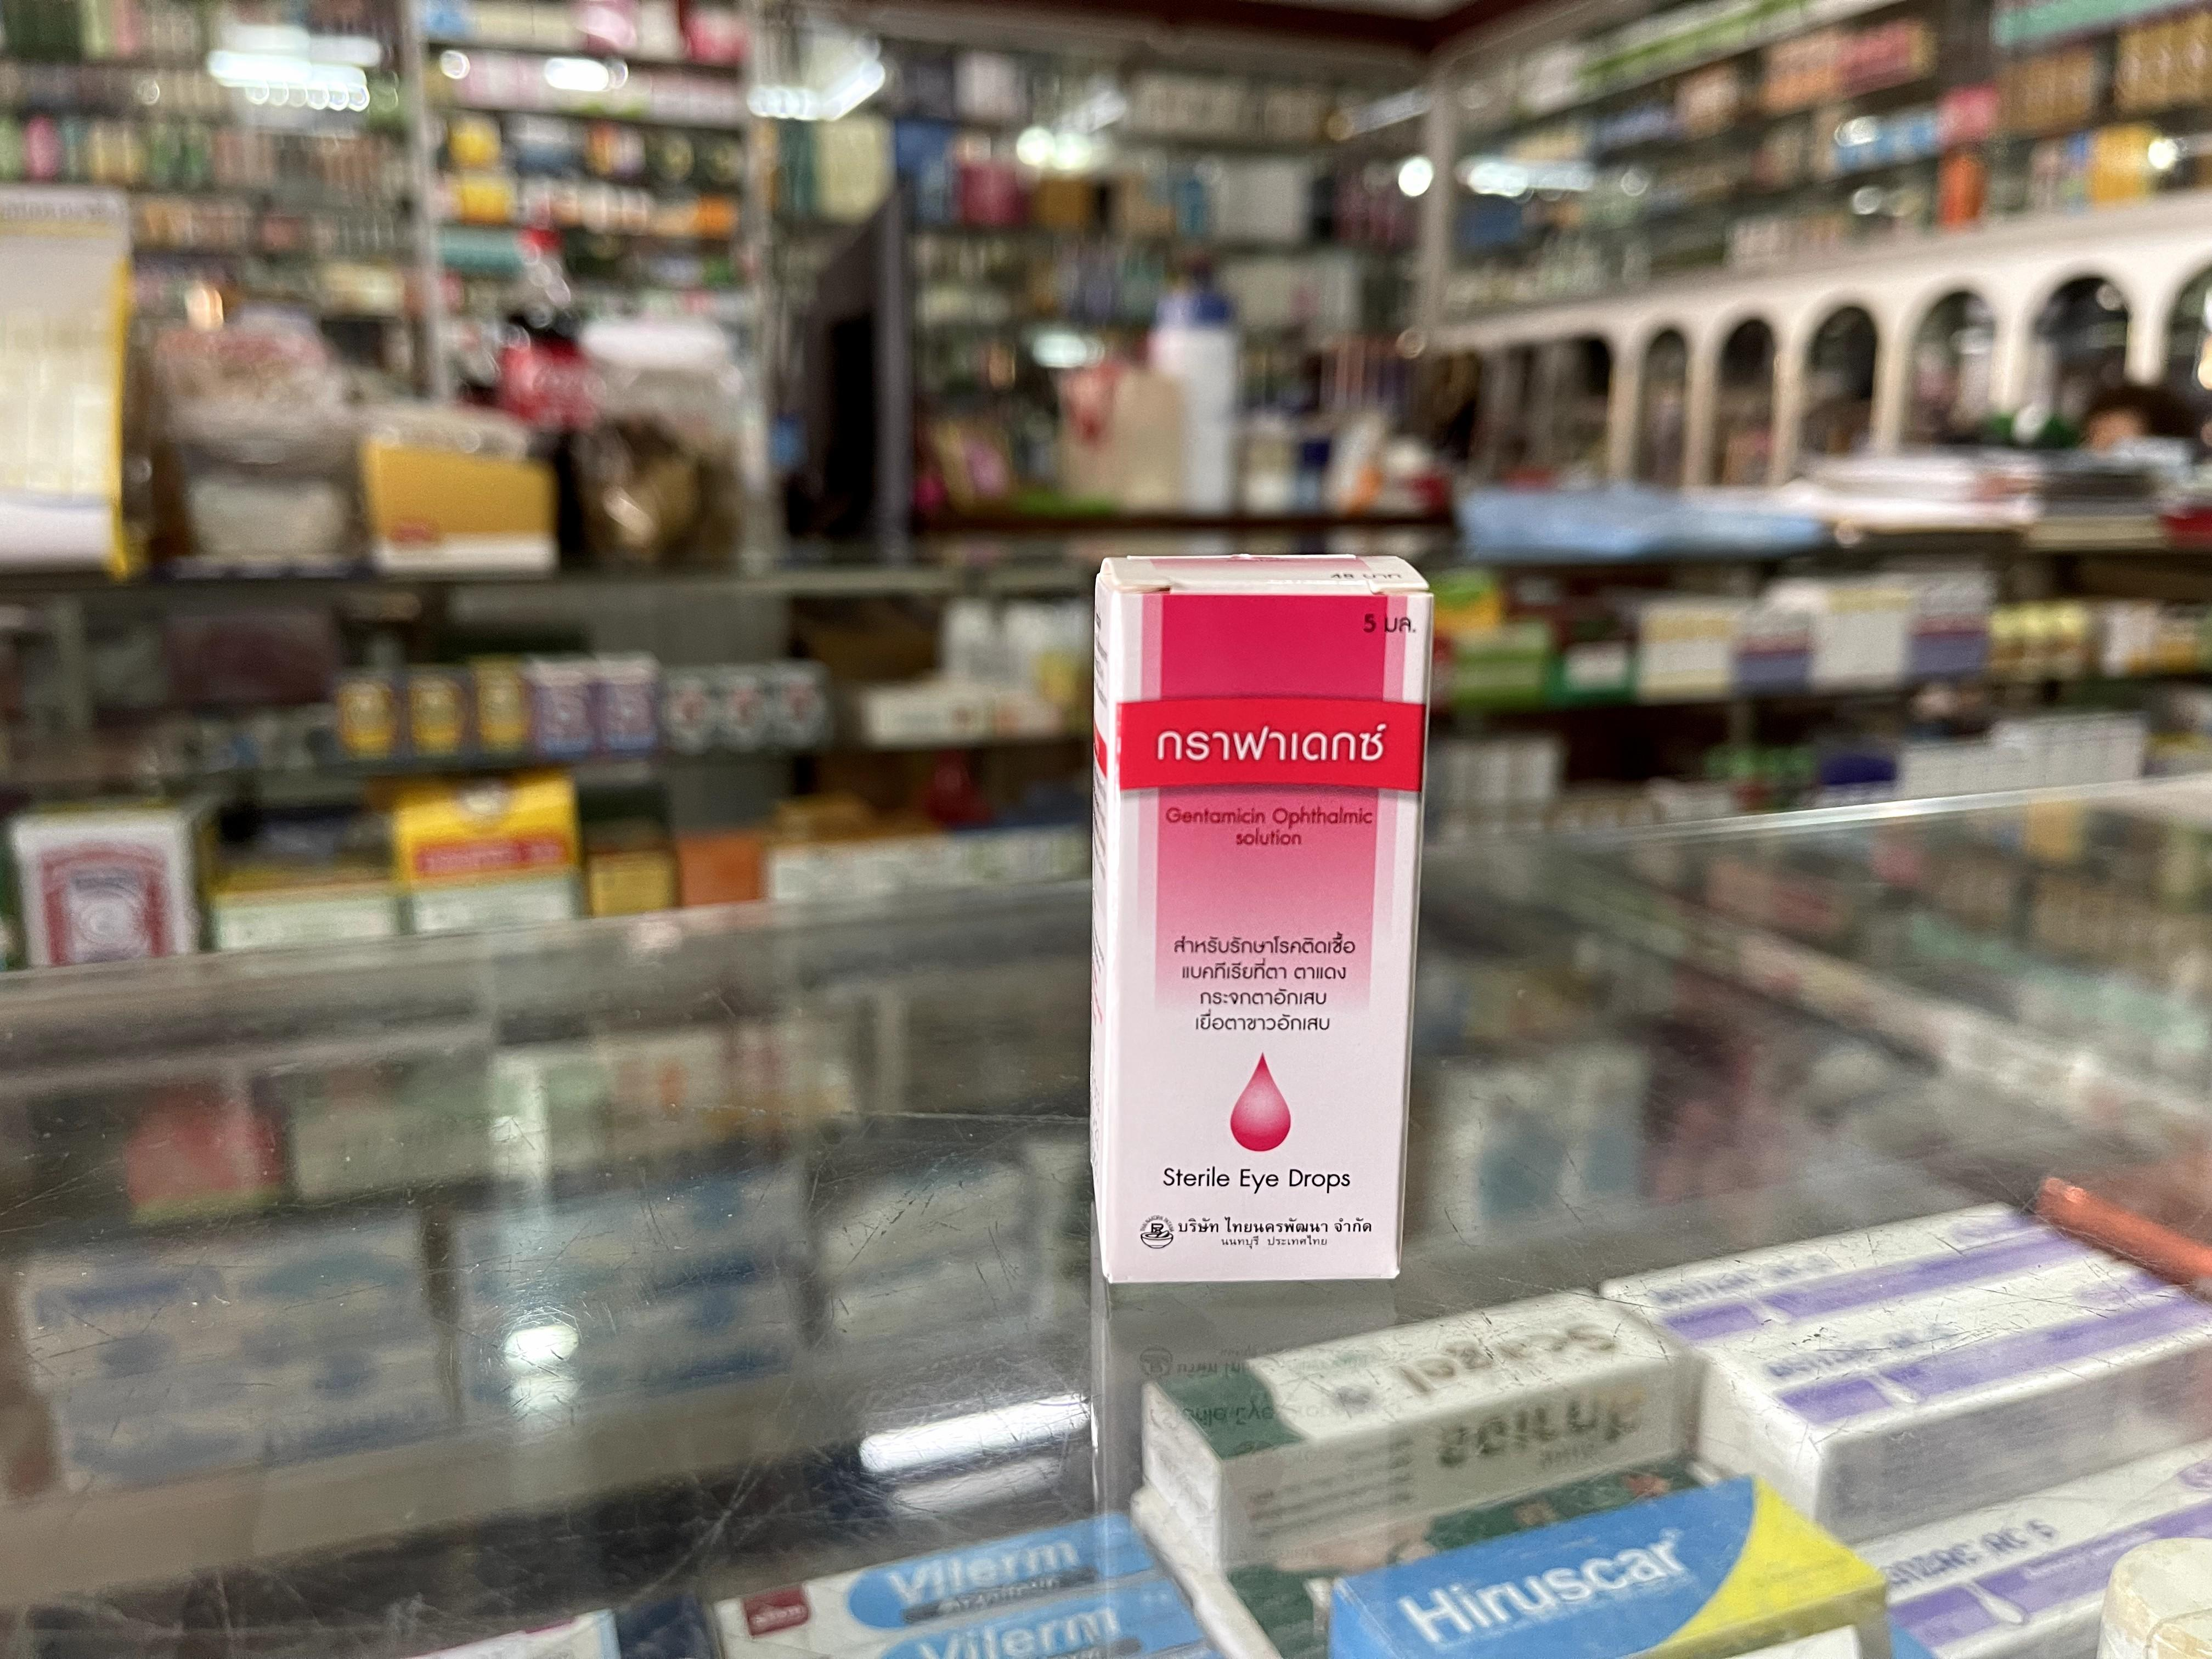Grafadex: (1092, 551, 1435, 1284)
